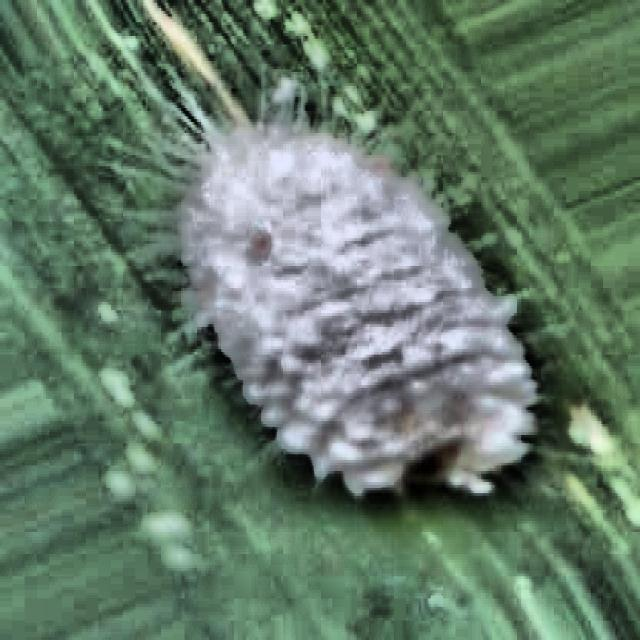Mealy-bug: (133, 27, 640, 640)
